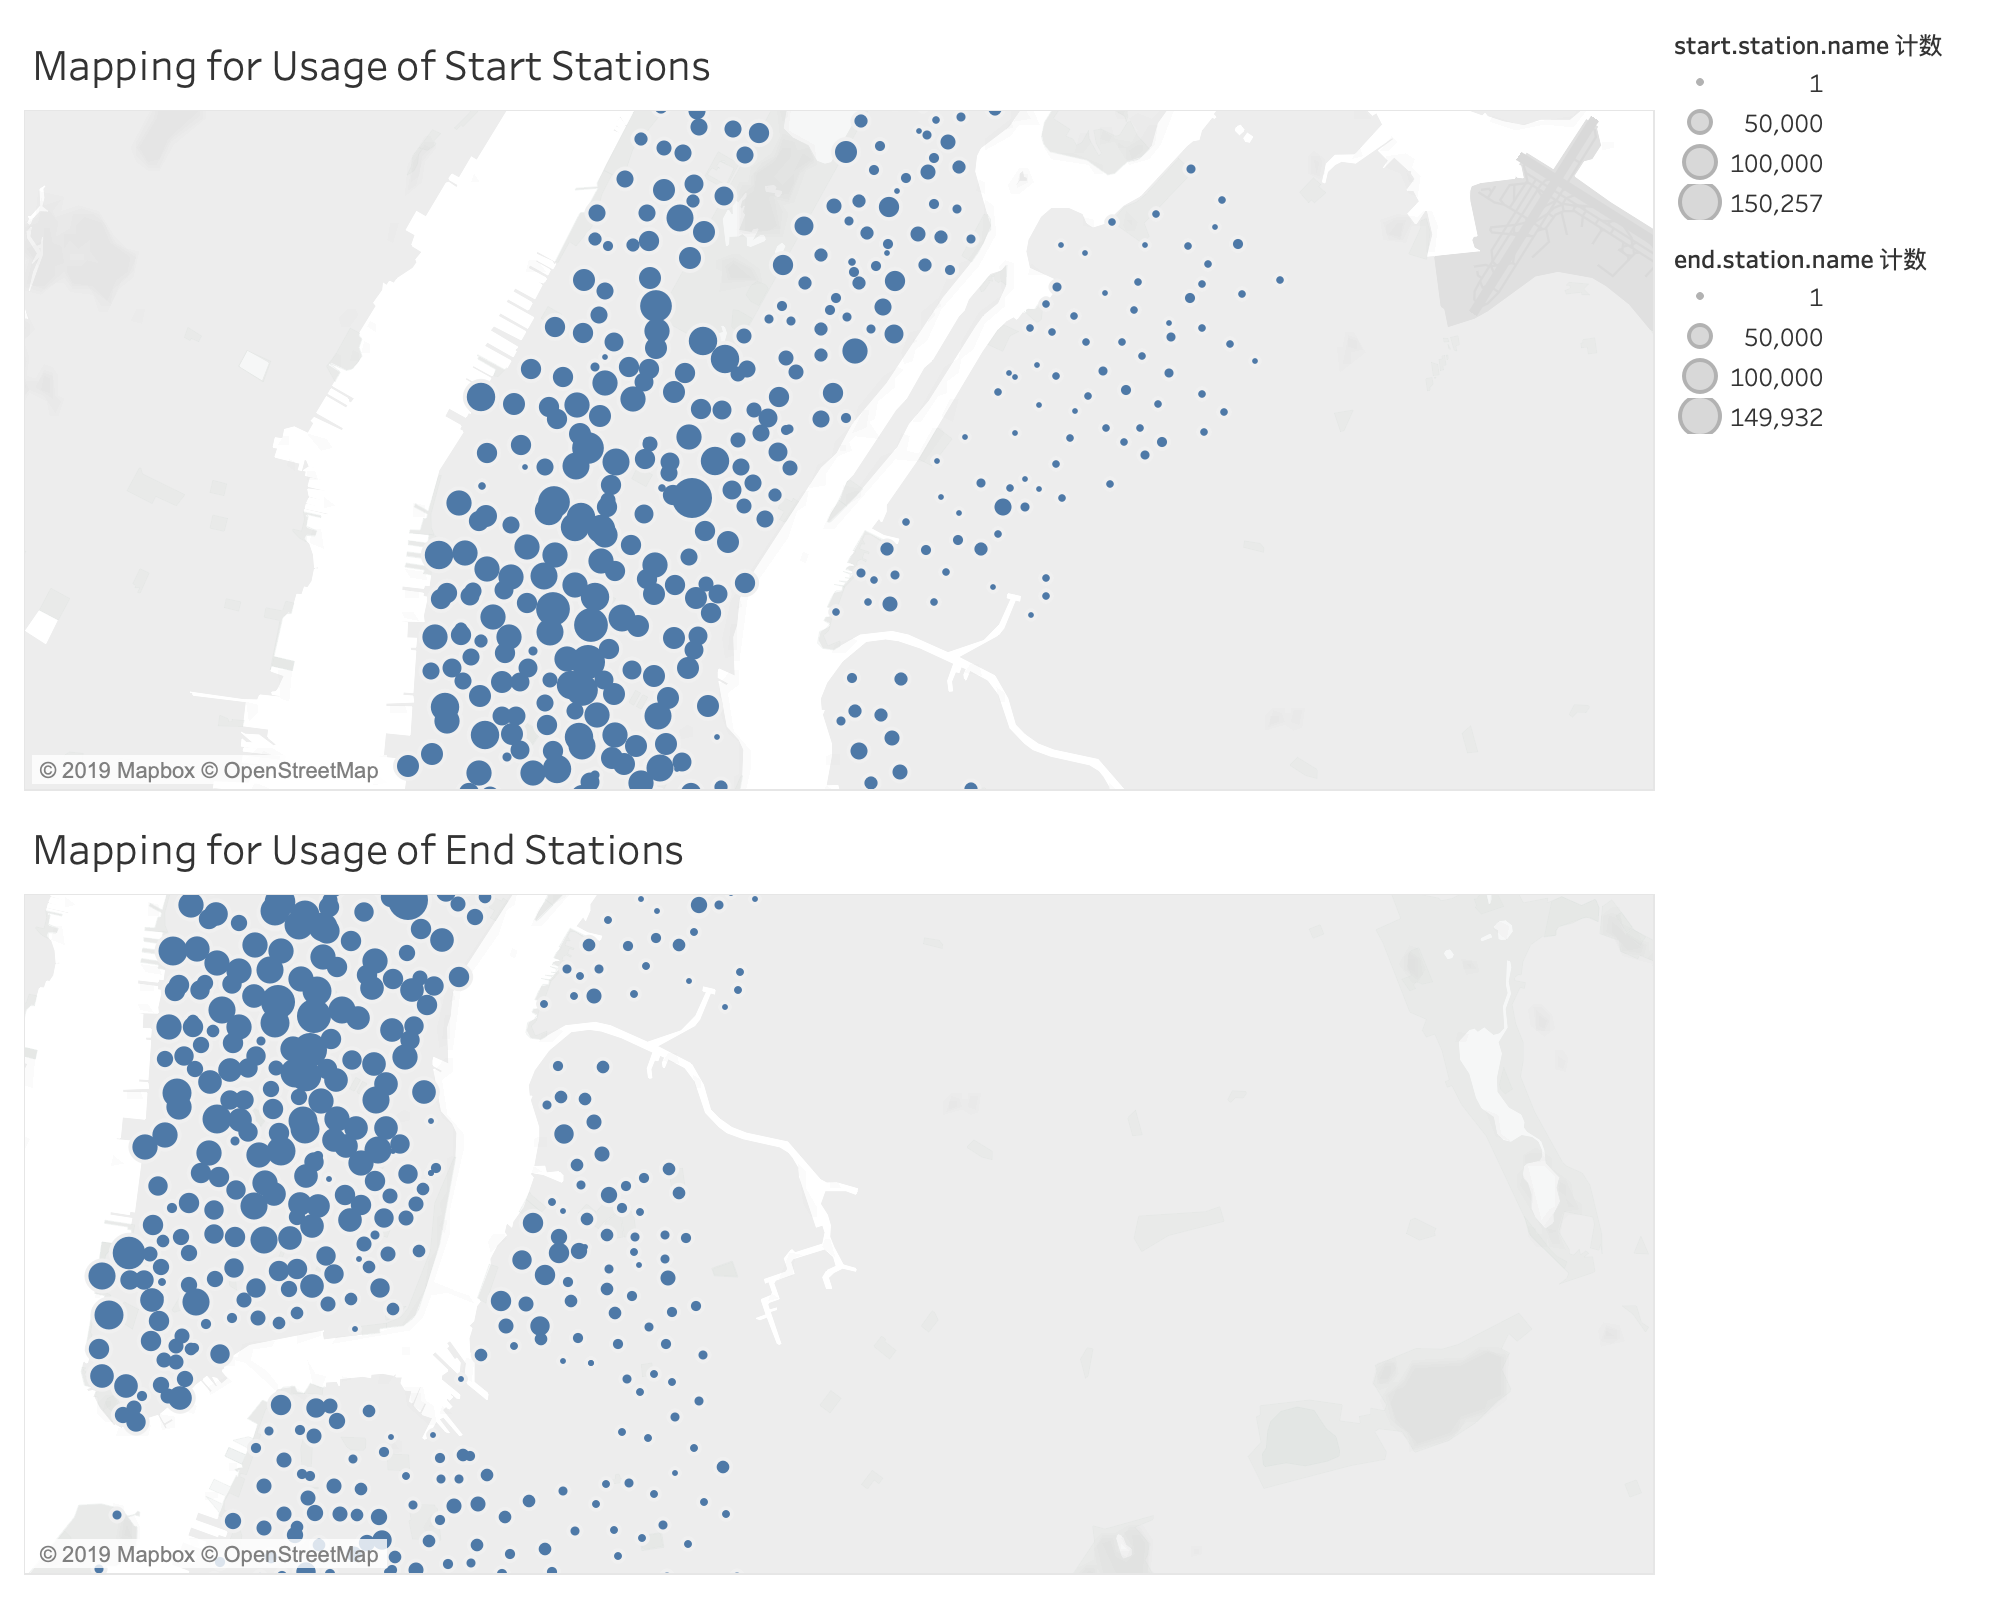

Layout of this report page (visuals, bound fields, positions):
{"tool":"tableau","page":{"name":"仪表板 6","canvas":[1000,800],"ordinal":5},"visuals":[{"type":"worksheet","title":"工作表 12","mark":"Automatic","rows":["start.station.latitude"],"cols":["start.station.longitude"],"box":[8,8,824,392]},{"type":"legend","title":"工作表 12","param":"[federated.02kz2ur0veorju1ejoxha19djnvy].[cnt:start.station.name:qk]","box":[832,8,160,107]},{"type":"legend","title":"工作表 13","param":"[federated.02kz2ur0veorju1ejoxha19djnvy].[cnt:end.station.name:qk]","box":[832,115,160,107]},{"type":"worksheet","title":"工作表 13","mark":"Automatic","rows":["end.station.latitude"],"cols":["end.station.longitude"],"box":[8,400,824,392]}]}

Visuals, with their boxes in screenshot pixels (x1, y1, x2, y2), scaled from the page's 1000x800 canvas onto the 2000x1600 screenshot:
"工作表 12" worksheet: region(16, 16, 1664, 800)
"工作表 12" legend: region(1664, 16, 1984, 230)
"工作表 13" legend: region(1664, 230, 1984, 444)
"工作表 13" worksheet: region(16, 800, 1664, 1584)
